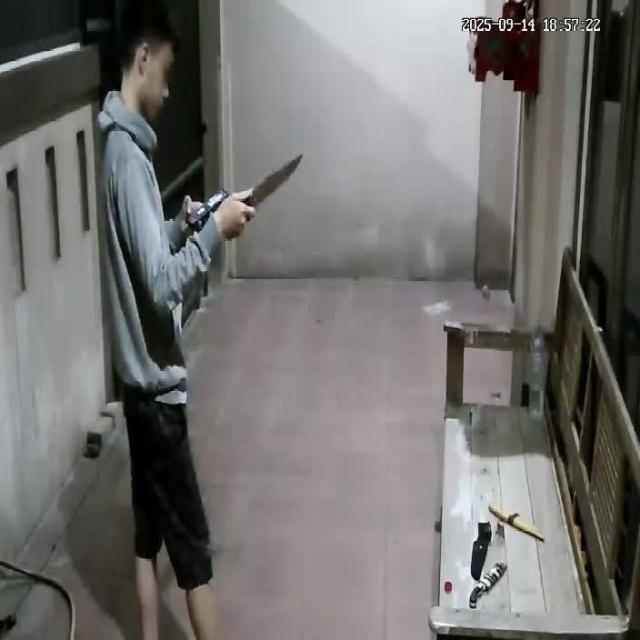senjata_tajam: (244, 151, 304, 208)
